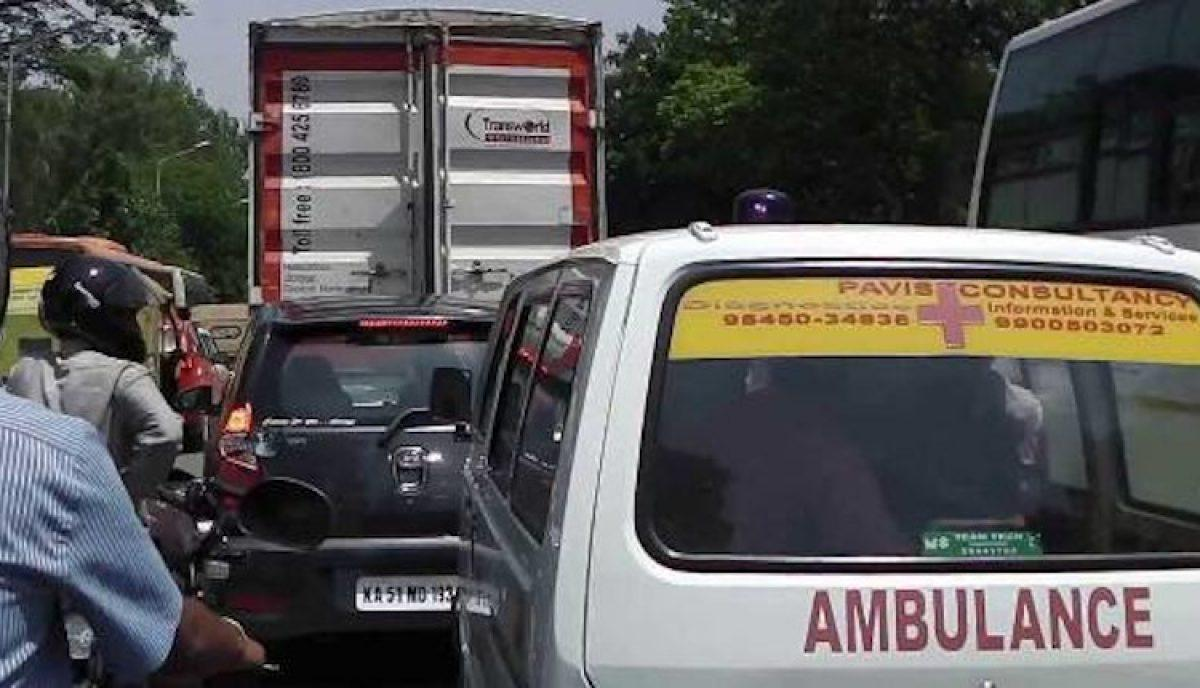Emergency-Vehicles: (488, 143, 1200, 688)
